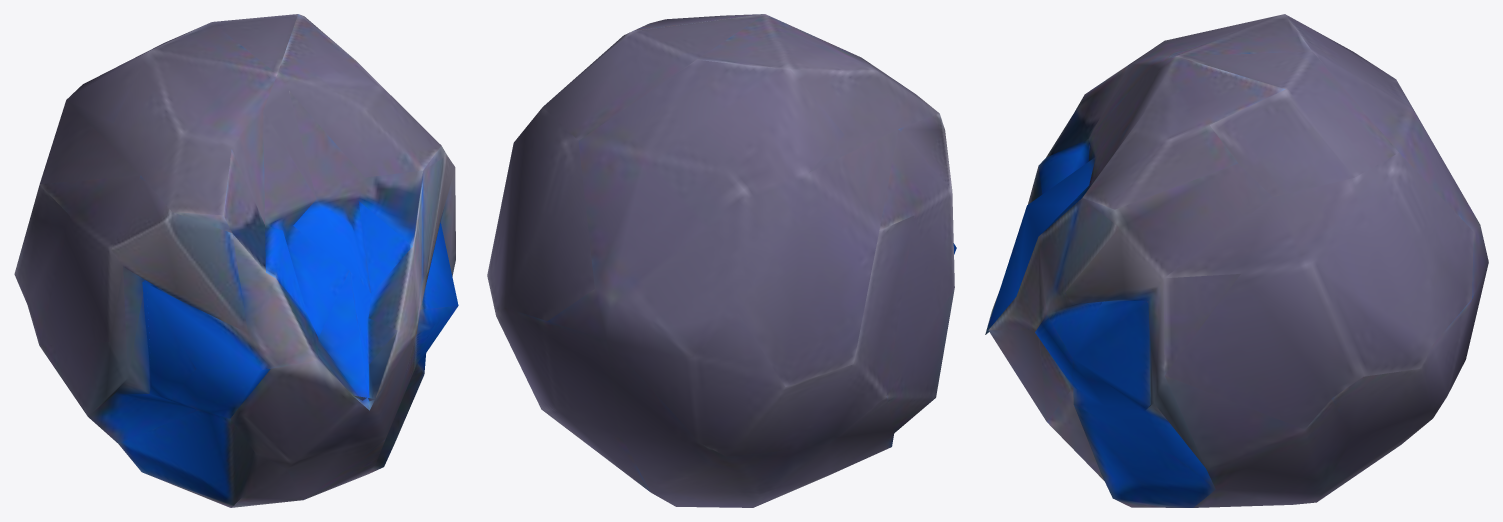
Rendered from siege_rock.glb.
3 renders of one model, left to right at view 1: azimuth 30°, elevation 25°; view 2: azimuth 150°, elevation 25°; view 3: azimuth 270°, elevation 25°, orthographic. The views are drawn at different scales.
Parts seen in each view (by area): view 1: tripo_node_0d95400a-ef8c-4737-bdfc-197de1603db3; view 2: tripo_node_0d95400a-ef8c-4737-bdfc-197de1603db3; view 3: tripo_node_0d95400a-ef8c-4737-bdfc-197de1603db3.
Boxes of the visible parts, x1,y1,x2,y2 form: tripo_node_0d95400a-ef8c-4737-bdfc-197de1603db3: (14,14,458,507); tripo_node_0d95400a-ef8c-4737-bdfc-197de1603db3: (487,14,956,507); tripo_node_0d95400a-ef8c-4737-bdfc-197de1603db3: (985,14,1488,507).
Bounding box in the file's own units: 0.8477 × 0.9947 × 1.01.
Materials: 1 (1 with a texture image).
